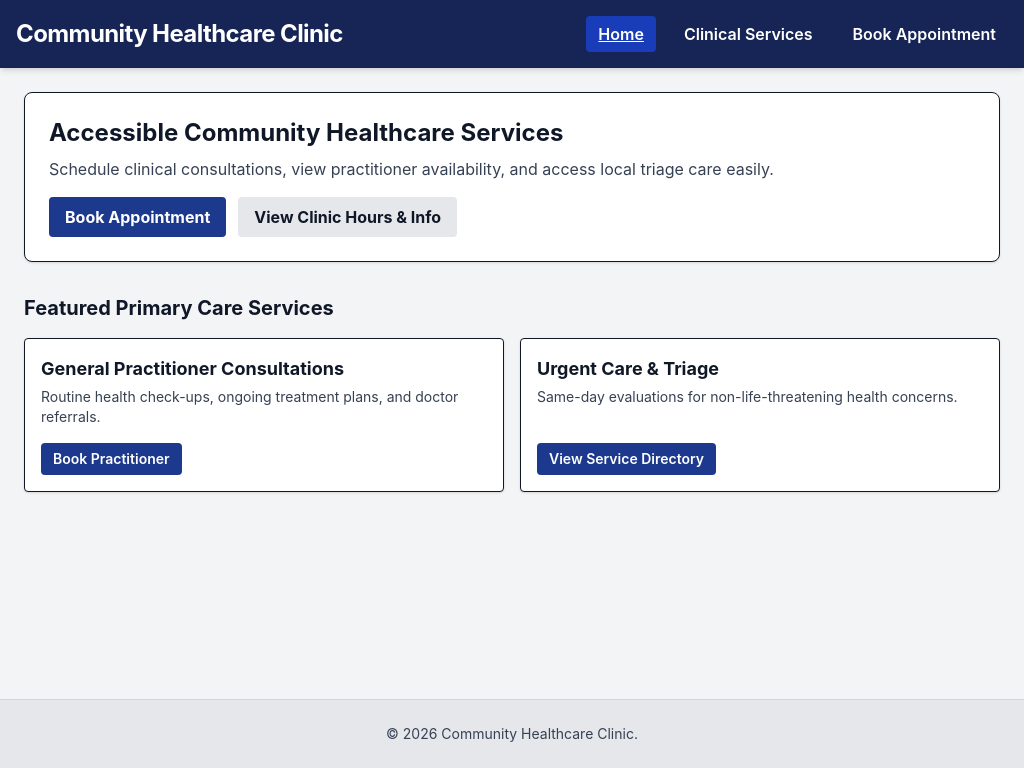
Test: App SPA Navigation › returns to home view when header title button is clicked
Click the 1st button "Book Appointment". click: (924, 34)
box: x1=840 y1=16 x2=1008 y2=52
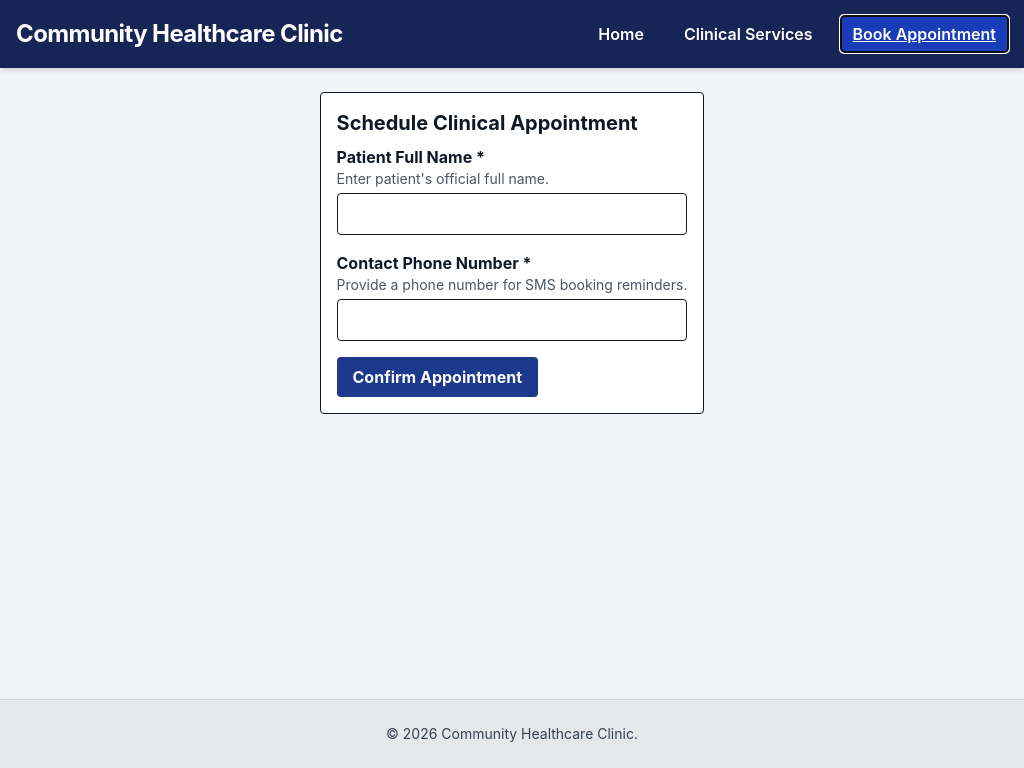
Note: Click brand title home button
Click the button with aria-label "Community Healthcare Clinic - Return to homepage". click: (179, 34)
box: x1=16 y1=18 x2=343 y2=50
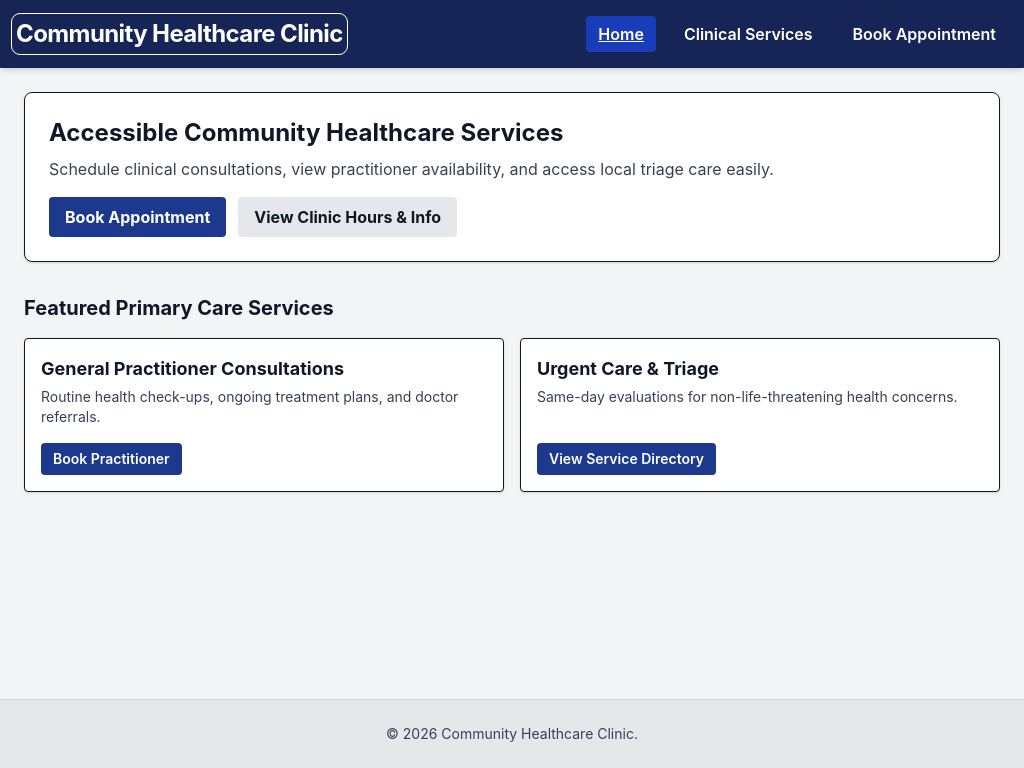
Expected: the heading "Accessible Community Healthcare Services" is shown, x1=49 y1=118 x2=563 y2=147
